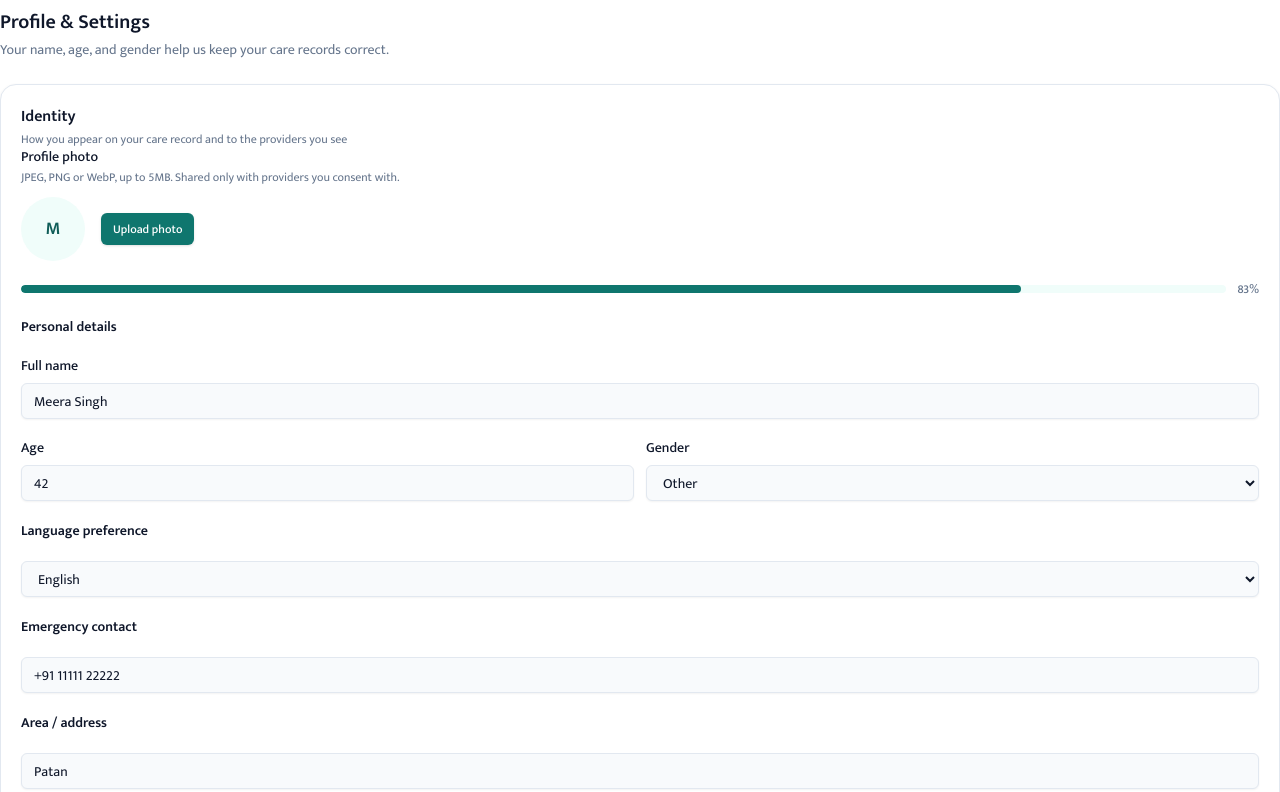
Test: Profile & Settings page (#522/#523) › saves language, emergency contact, and area edits through the finish path
expect the field with test id "ps-fullname" holds "Meera Singh": met, box [21,383,1259,419]
Select "हिंदी" in the dropdown with test id "ps-lang" at (640, 579), box [21,561,1259,597]
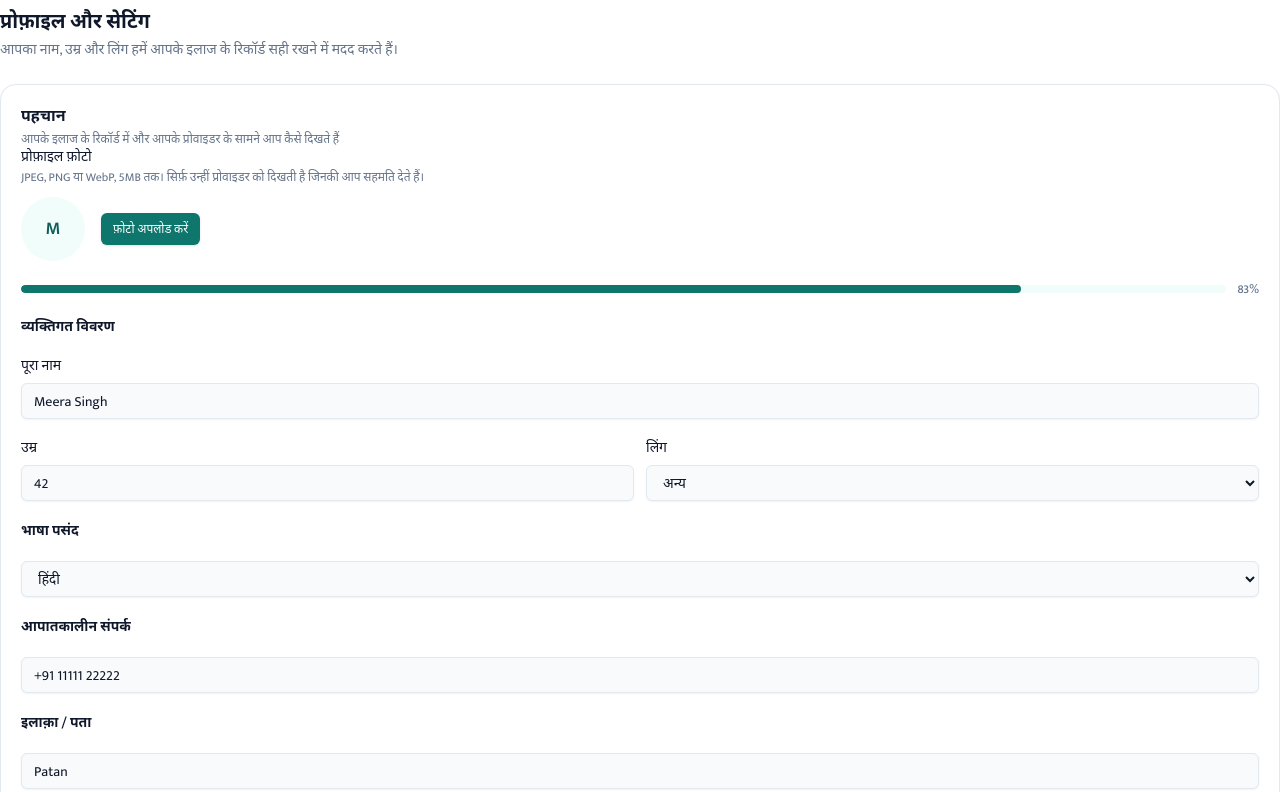
Replace the text in the field with test id "ps-area" with "Bishrampur" at (640, 771), box [21,753,1259,789]
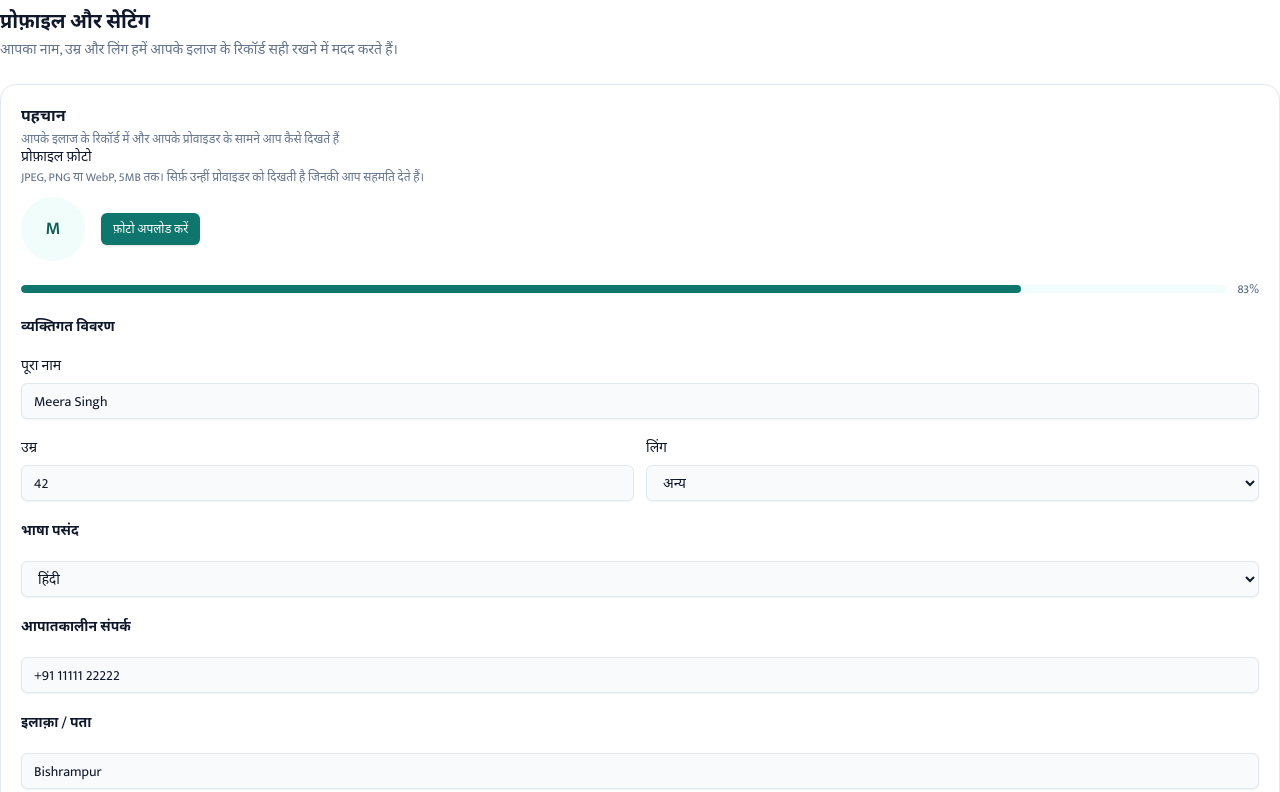
Replace the text in the field with test id "ps-ec" with "+91 99999 88888" at (640, 675), box [21,657,1259,693]
(page scrolled)
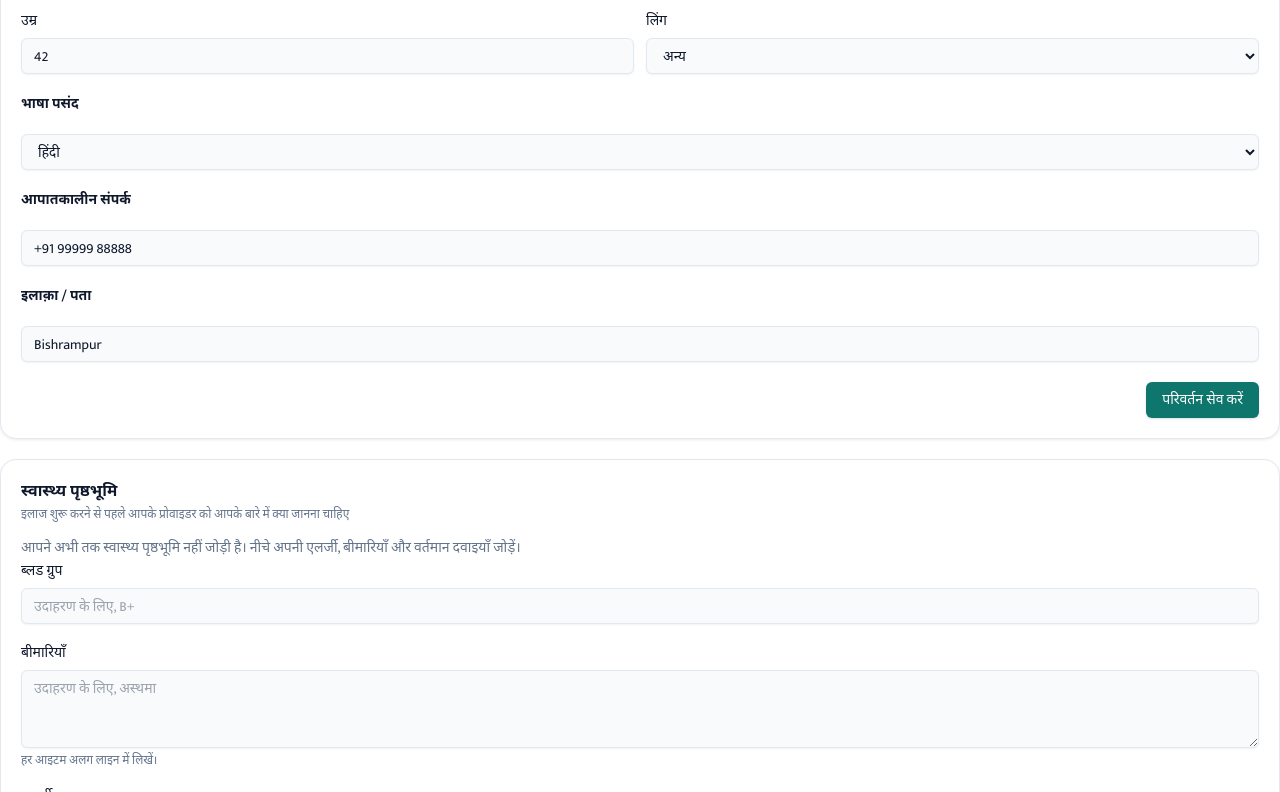
Click the button with test id "ps-save" at (1203, 400), box [1146,382,1259,418]
(page scrolled)
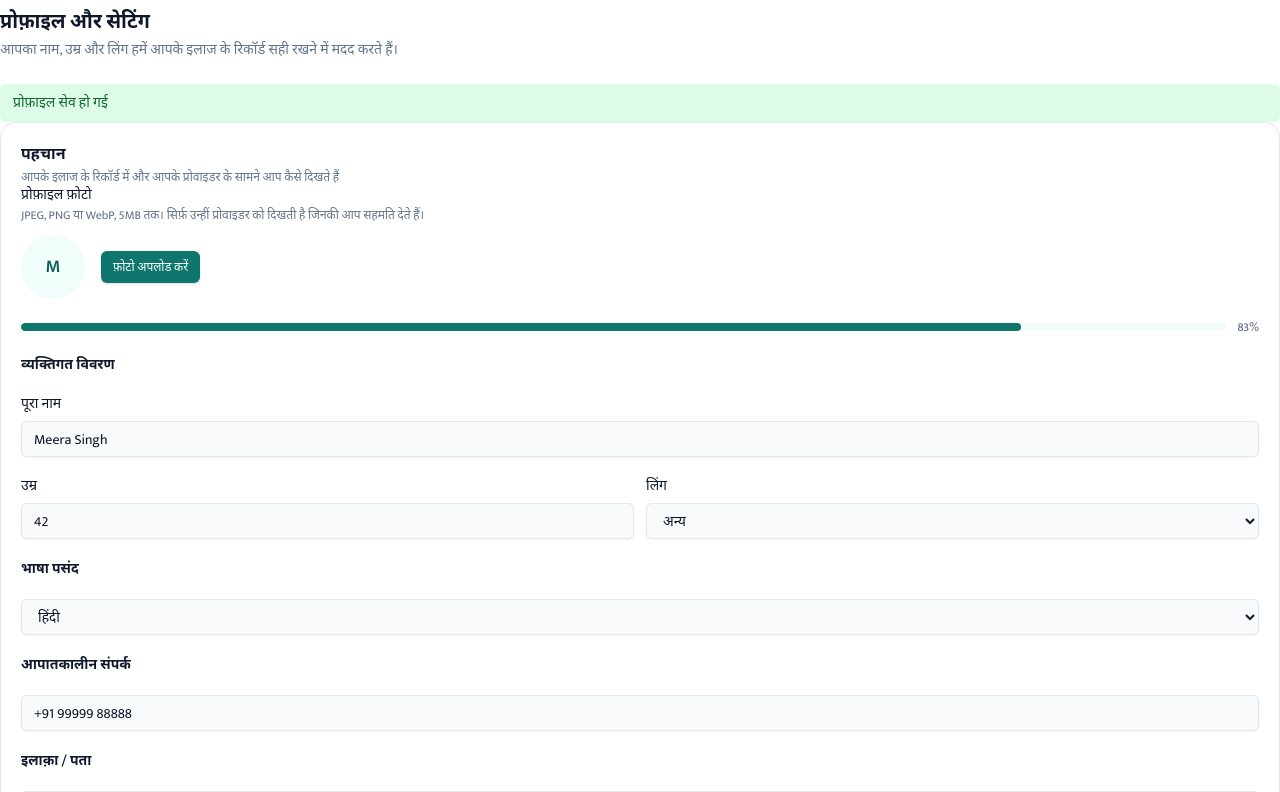
expect the text "प्रोफ़ाइल सेव हो गई" is shown: met, box [0,84,1279,122]
